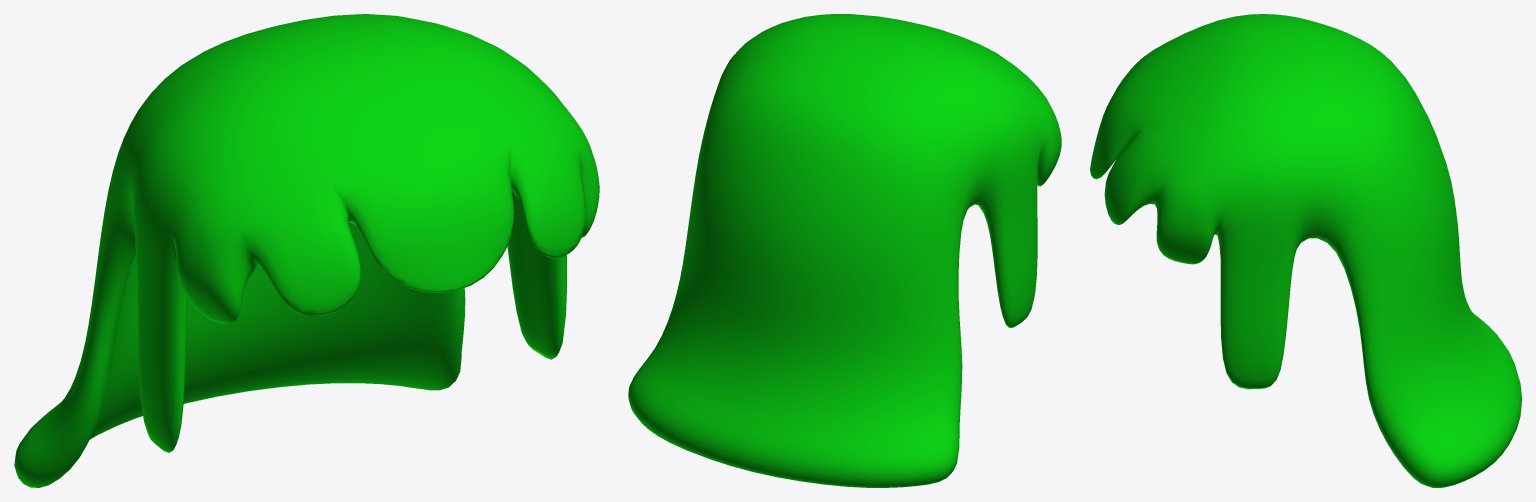
Rendered from hair-8.fbx.
3 renders of one model, left to right at view 1: azimuth 30°, elevation 25°; view 2: azimuth 150°, elevation 25°; view 3: azimuth 270°, elevation 25°, orthographic. The views are drawn at different scales.
Parts seen in each view (by area): view 1: Body.001; view 2: Body.001; view 3: Body.001.
Part boxes in pixels (x1=…): Body.001: x1=14, y1=14, x2=599, y2=487; Body.001: x1=628, y1=14, x2=1061, y2=487; Body.001: x1=1090, y1=14, x2=1521, y2=487.
Size of the model in its own units: 79.36 by 82.72 by 87.87.
